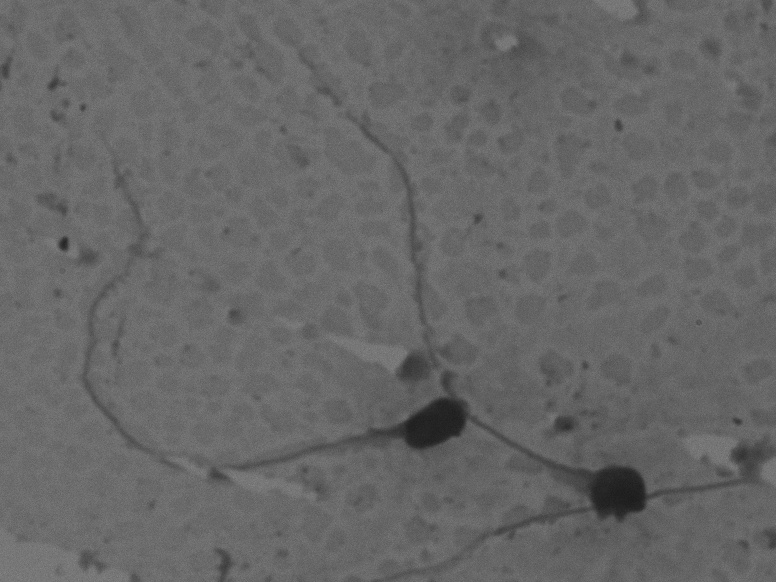Abnormal: (269, 34, 670, 543), (61, 139, 477, 500)
